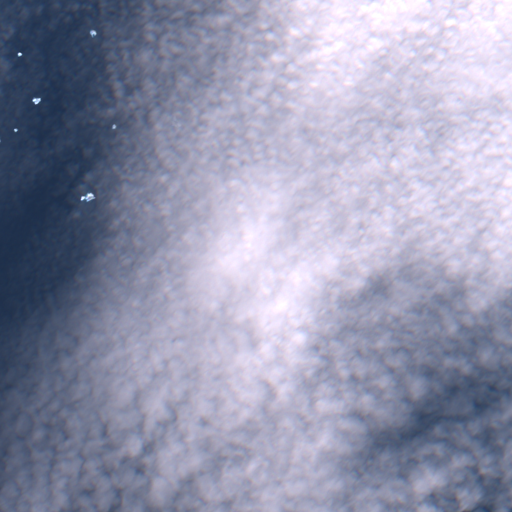Iceberg: (80, 193, 95, 201), (32, 97, 40, 104), (90, 30, 96, 37), (17, 52, 22, 56), (112, 124, 116, 128), (14, 128, 17, 131)
